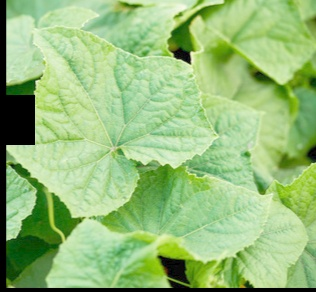cucumber_plant: (9, 21, 273, 287)
